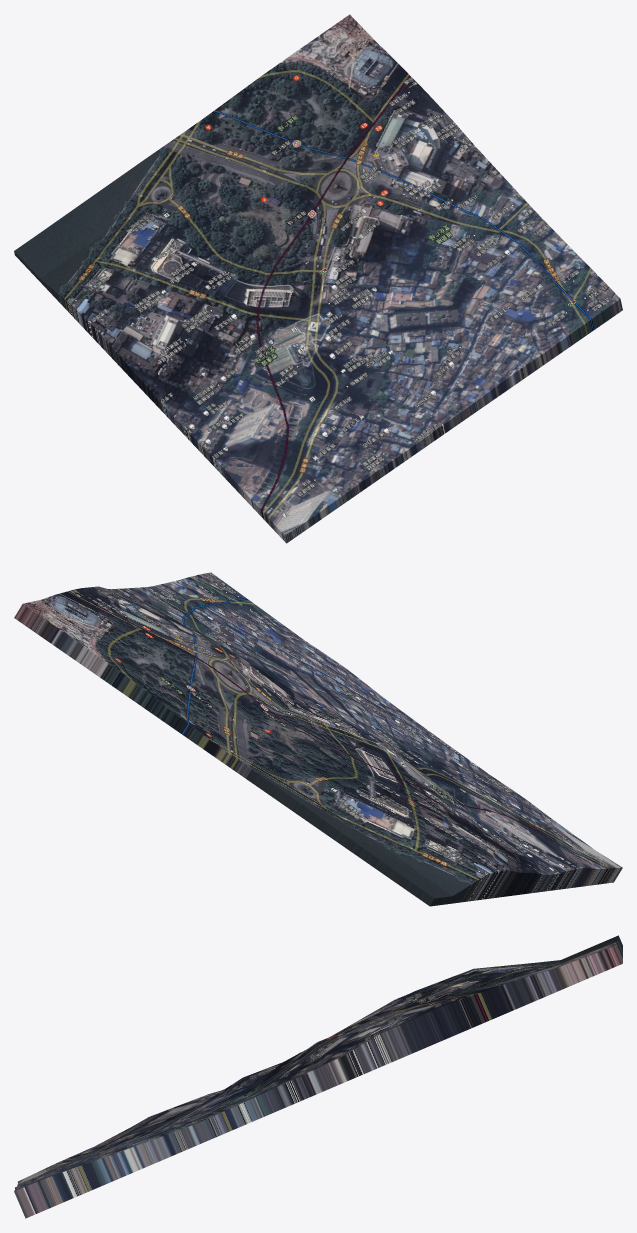
The picture shows the model from 3 angles, top to bottom: view 1: azimuth 30°, elevation 25°; view 2: azimuth 150°, elevation 25°; view 3: azimuth 270°, elevation 25°; orthographic projection. The views are drawn at different scales.
Visible parts, largest first — view 1: 0_11_11; view 2: 0_11_11; view 3: 0_11_11.
Part boxes in pixels (x1=…): 0_11_11: x1=14, y1=14, x2=622, y2=543; 0_11_11: x1=14, y1=572, x2=622, y2=906; 0_11_11: x1=14, y1=935, x2=622, y2=1218.
Size of the model in its own units: 596 by 443 by 553.
1 material, 1 textured.
